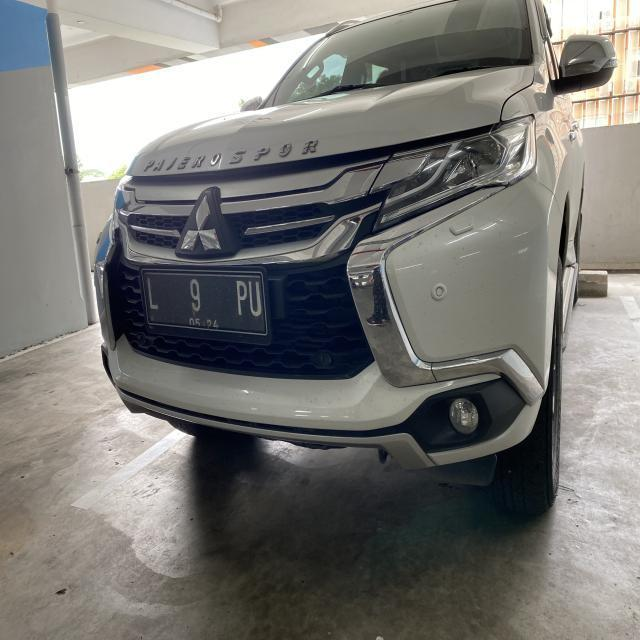9: (188, 278, 203, 312)
L: (144, 274, 160, 312)
P: (233, 280, 248, 316)
U: (248, 280, 264, 316)
